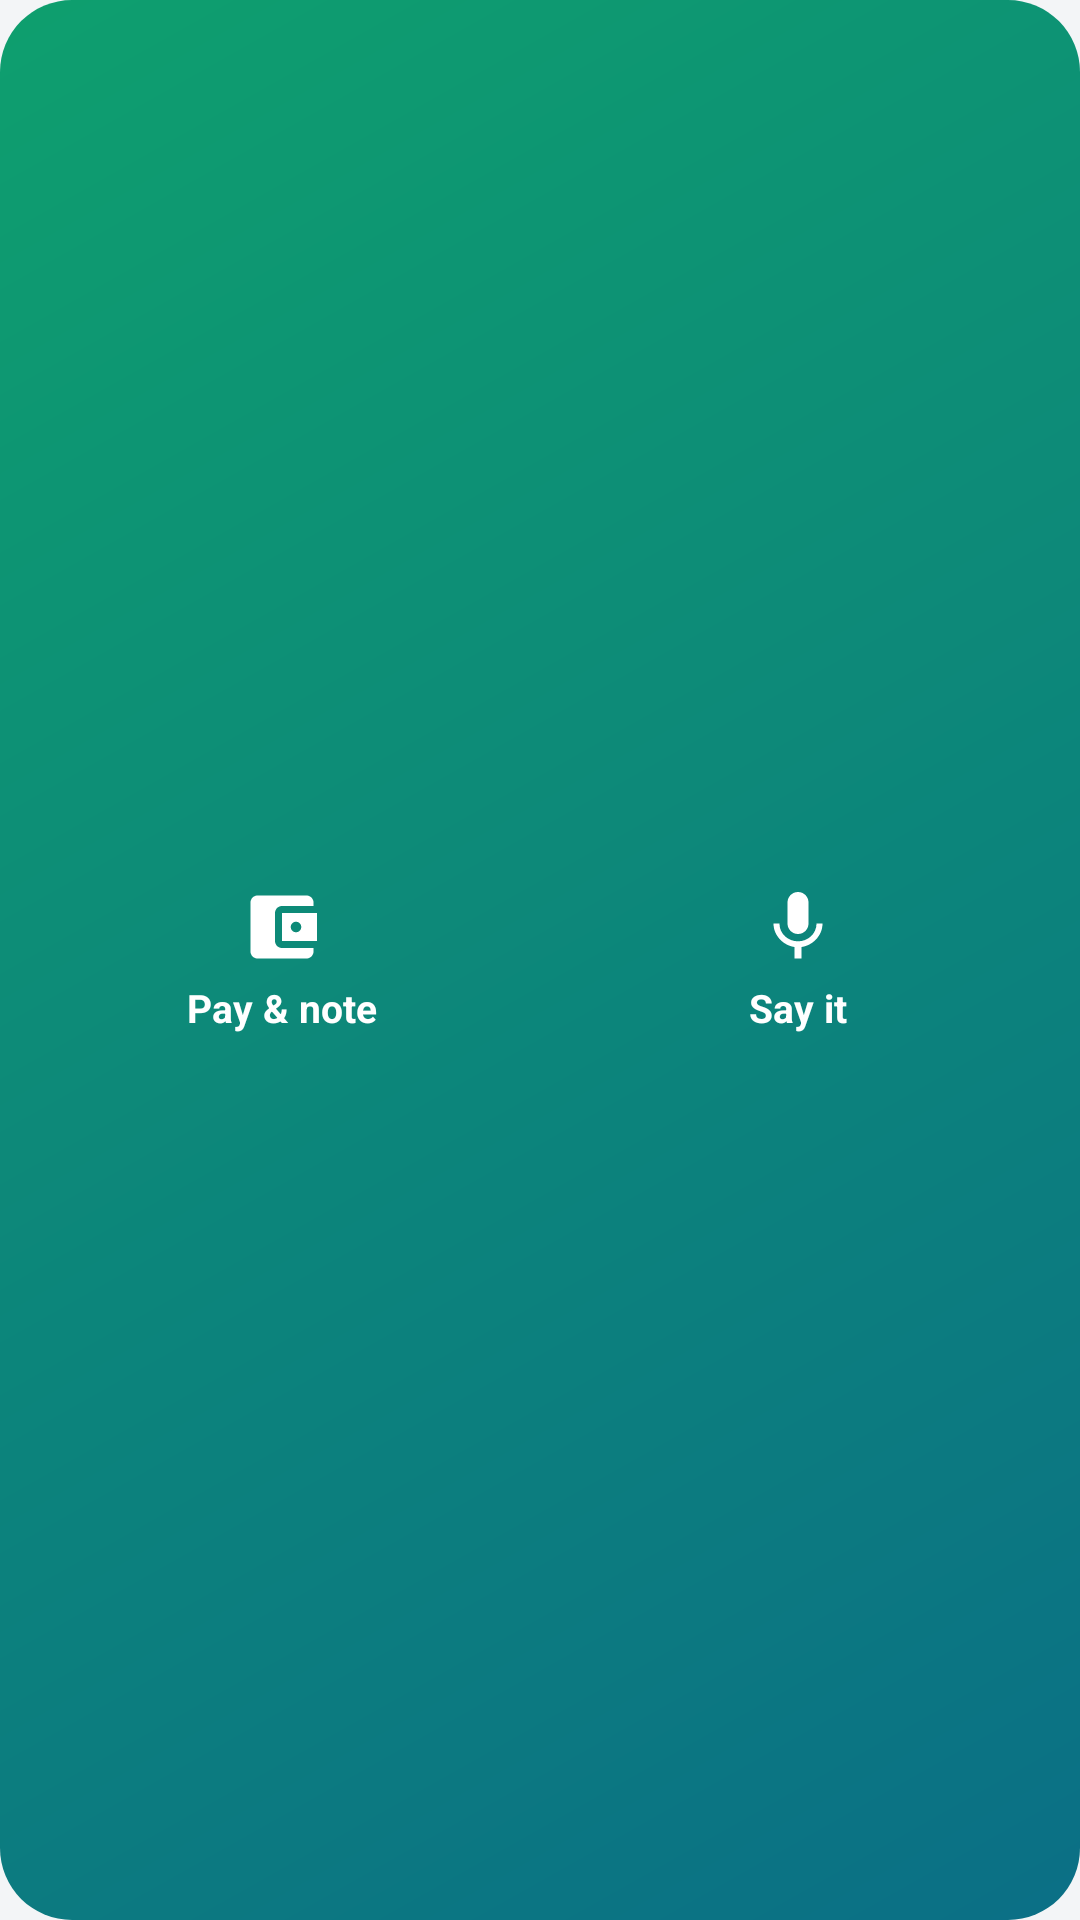

Icons on this 1080px×1920px Android screen, each with its box as (x1, y1, x2, y2):
mic: (773, 892, 823, 959)
